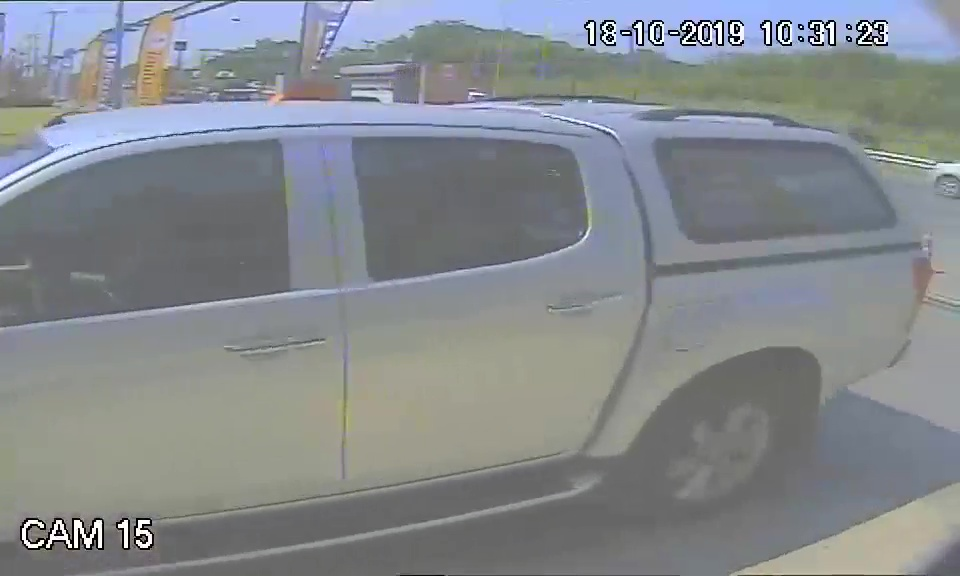pickup: (8, 96, 929, 517)
